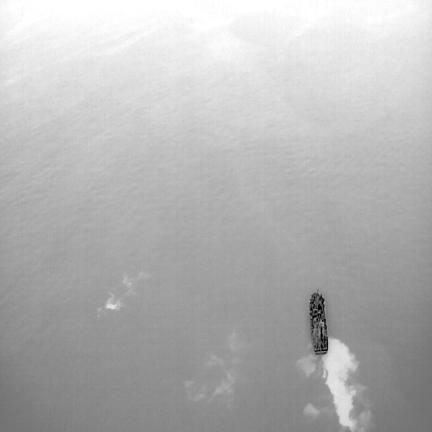flukeprints: (183, 332, 247, 409), (98, 273, 146, 316)
